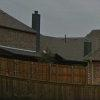Chimney: (24, 4, 43, 39)
